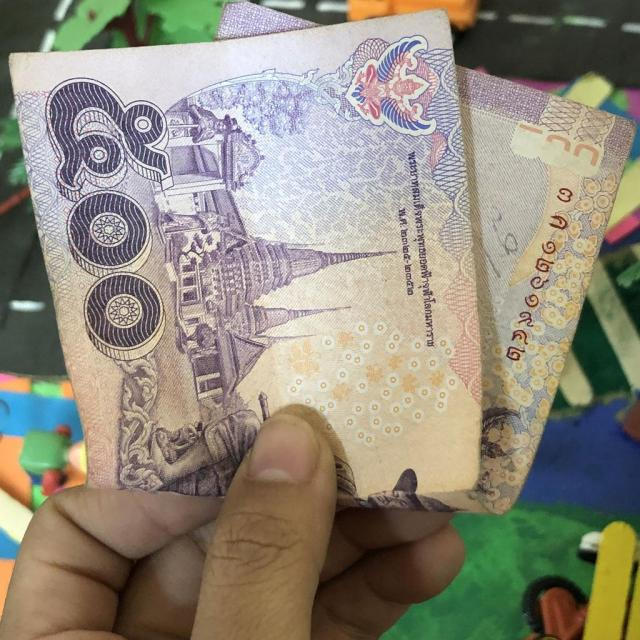THAI500: (9, 4, 635, 514)
